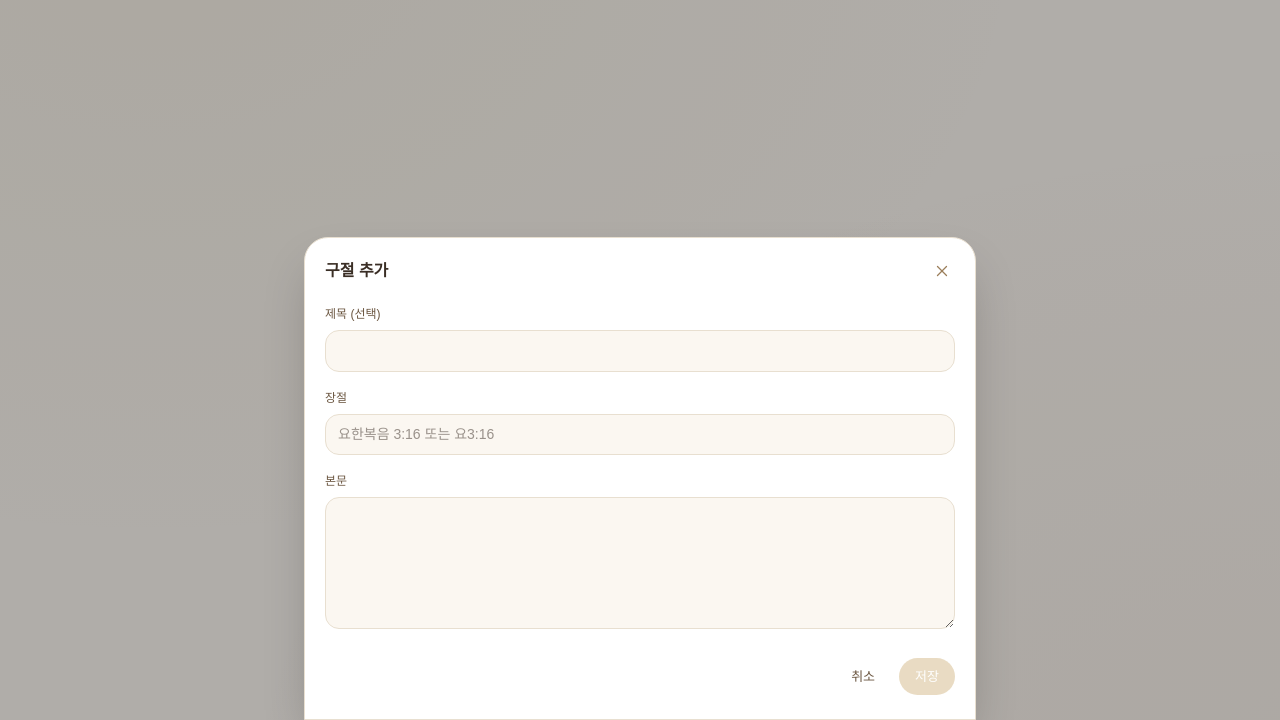
VerseEditSheet › save button is disabled until cite and body are filled
This screenshot has width=1280, height=720.
Expected: the button "저장" is disabled, [899, 658, 955, 695]
Type "요 3:16" into the field labelled "장절".
click(640, 434); type("요 3:16")  # box [325, 414, 955, 455]
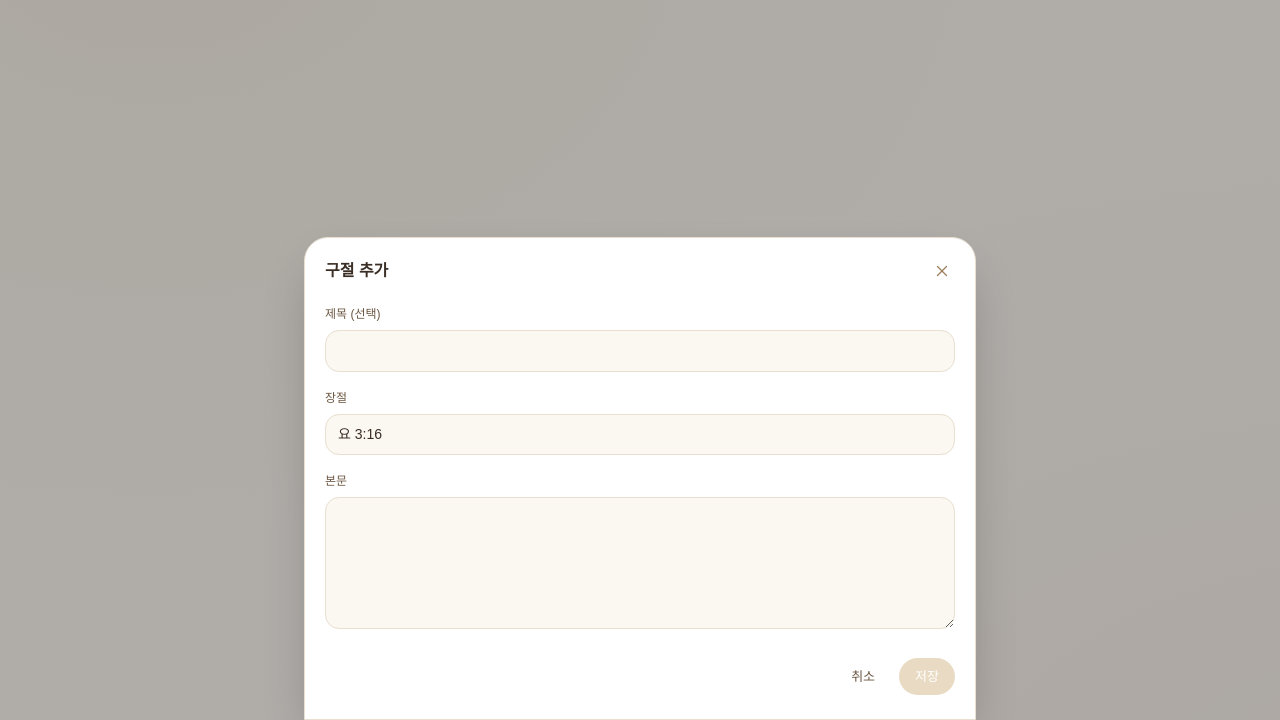
Expected: the button "저장" is disabled, [899, 658, 955, 695]
Type "하나님이" into the text box labelled "본문".
click(640, 563); type("하나님이")  # box [325, 497, 955, 629]
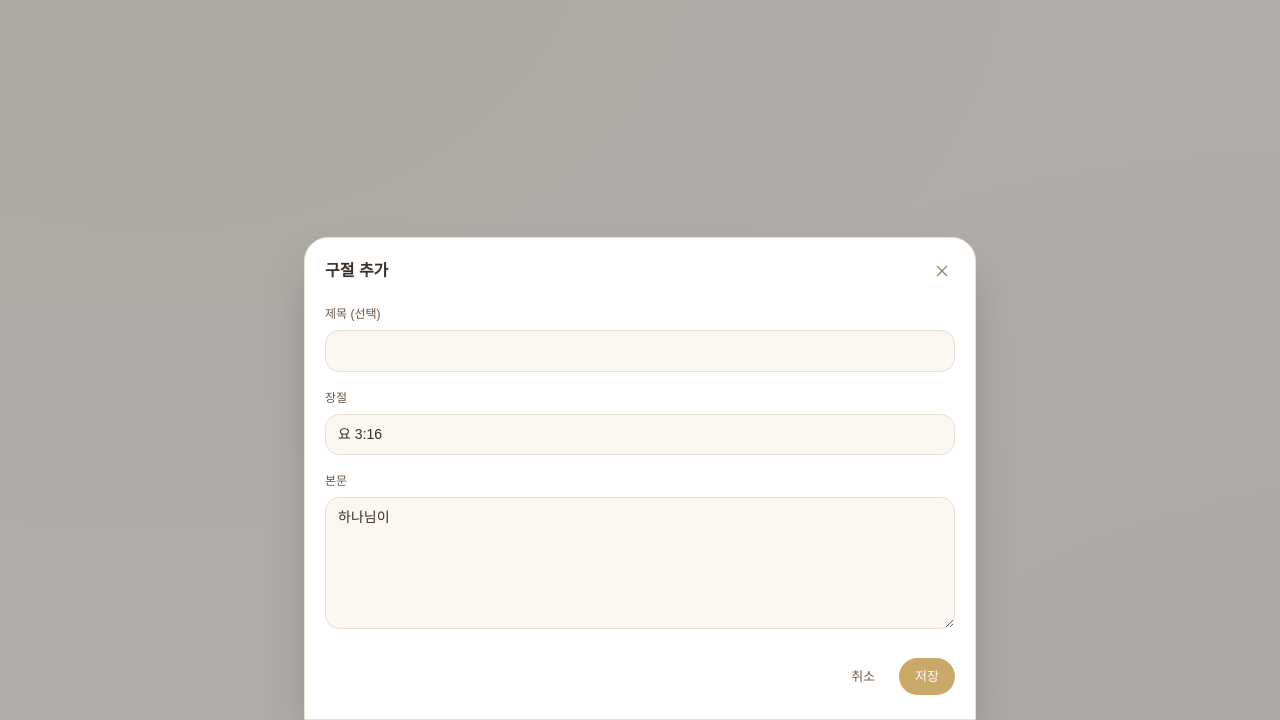
Expected: the button "저장" is enabled, [899, 658, 955, 695]
